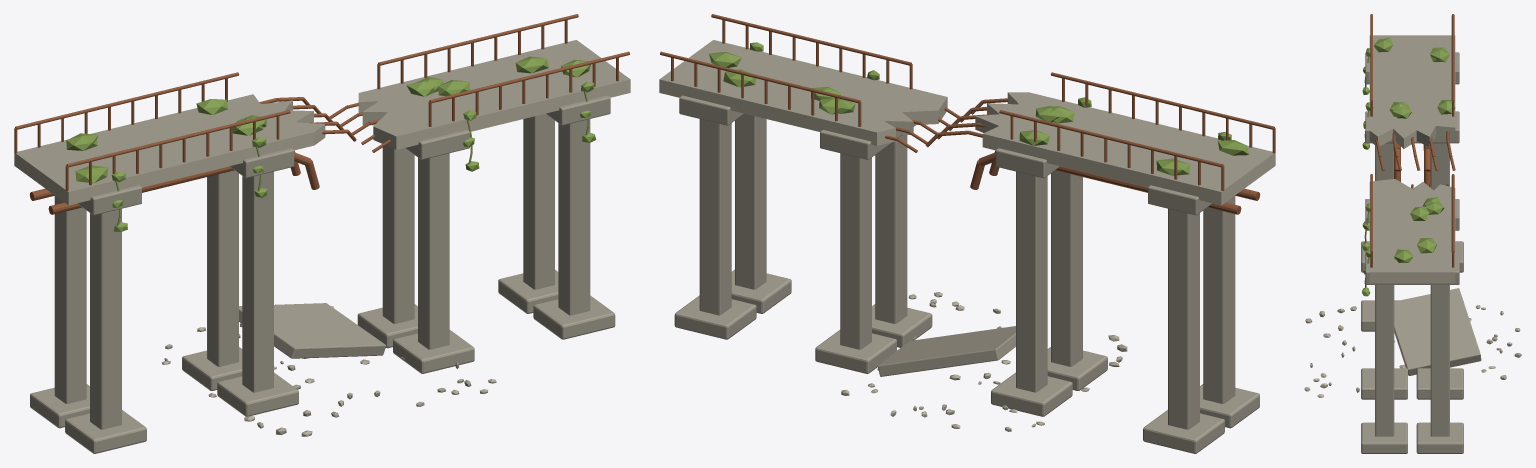
File: Broken_Industrial_Viaduct_Revival.glb
3 views of the same model, side by side, from view 1: azimuth 30°, elevation 25°; view 2: azimuth 150°, elevation 25°; view 3: azimuth 270°, elevation 25° (orthographic). The views are drawn at different scales.
Parts seen in each view (by area): view 1: Structure, Growth; view 2: Structure, Growth; view 3: Structure, Growth.
Part boxes in pixels (x1=…): Structure: x1=14, y1=14, x2=630, y2=453; Growth: x1=66, y1=56, x2=596, y2=231; Structure: x1=659, y1=14, x2=1275, y2=453; Growth: x1=709, y1=42, x2=1249, y2=175; Structure: x1=1304, y1=14, x2=1521, y2=453; Growth: x1=1362, y1=37, x2=1455, y2=296.
Bounding box in the file's own units: 24.06 × 11.97 × 10.13.
